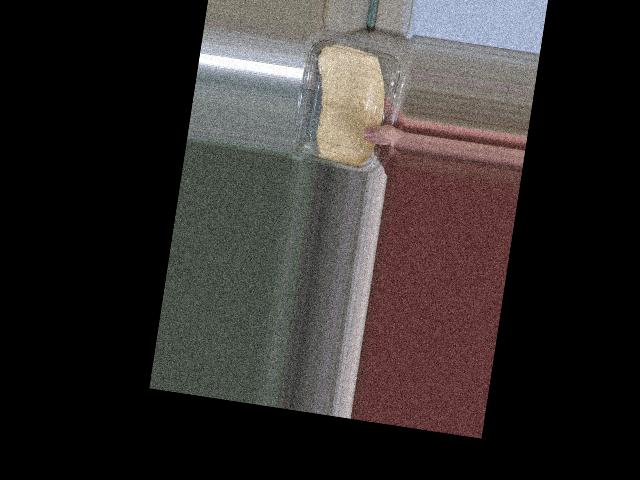cheese: (287, 27, 400, 175)
